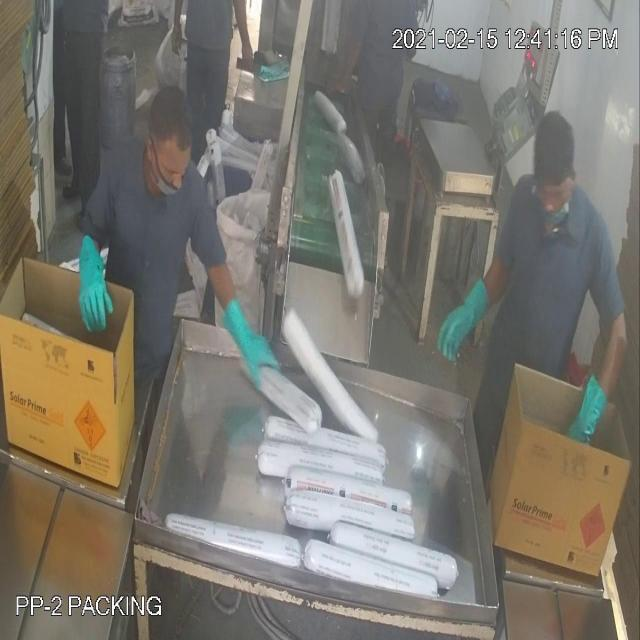Gloves: (30, 40, 462, 344)
